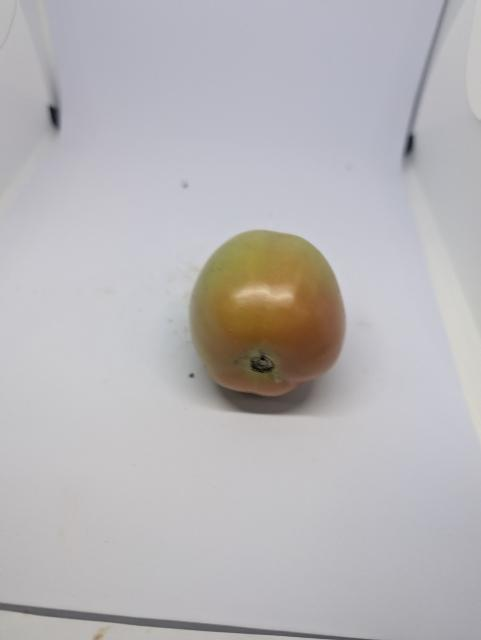turning: (190, 230, 346, 396)
